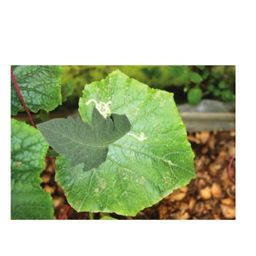liriomyza: (86, 98, 112, 119), (126, 130, 146, 142)
